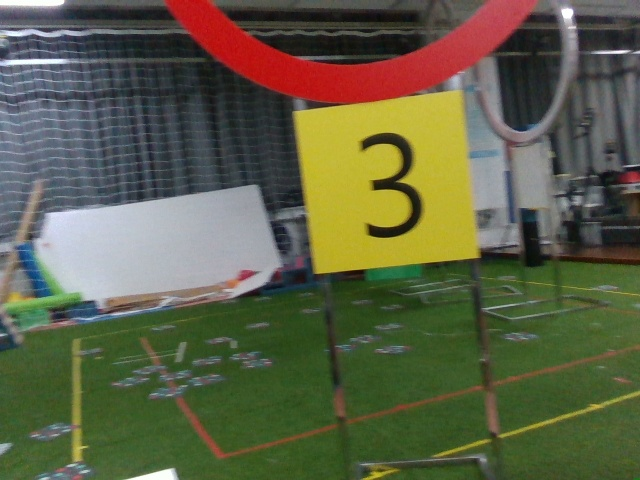target: (303, 106, 468, 273)
